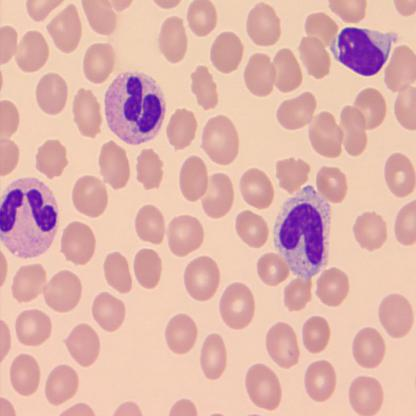Band Neutrophil: (271, 182, 333, 280), (102, 68, 168, 148), (1, 174, 59, 261)
